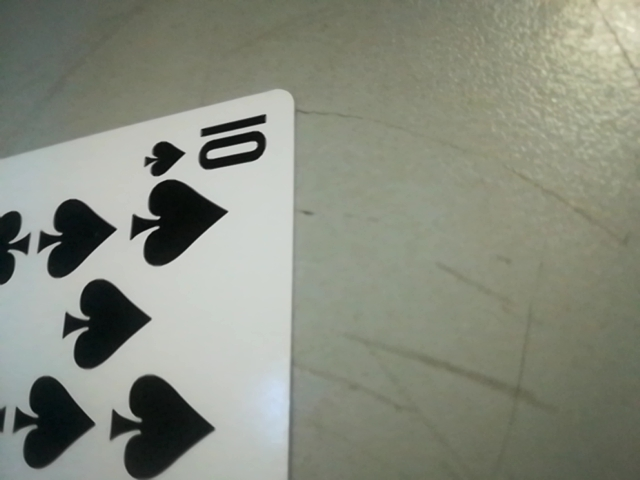ht 10: (138, 112, 273, 182)
